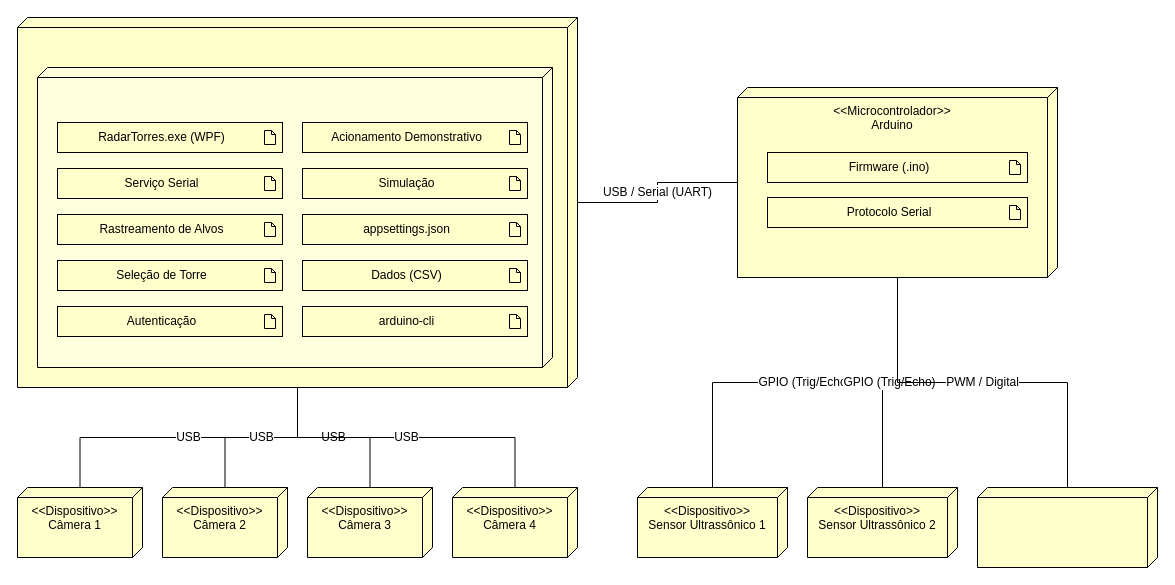
The diagram is 1175 pixels wide and 585 high, and some of its shapes have lost their labels. Each missing label, with the box of its shape:
<<Ambiente de Execução>> .NET 9 Desktop Runtime: (36, 66, 552, 368)
<<Computador do Operador>> PC Windows 10/11: (16, 16, 578, 388)
<<Dispositivo>> 5 Torres (Servos) + Lasers ≤ 5 mW (relés): (976, 486, 1158, 568)
